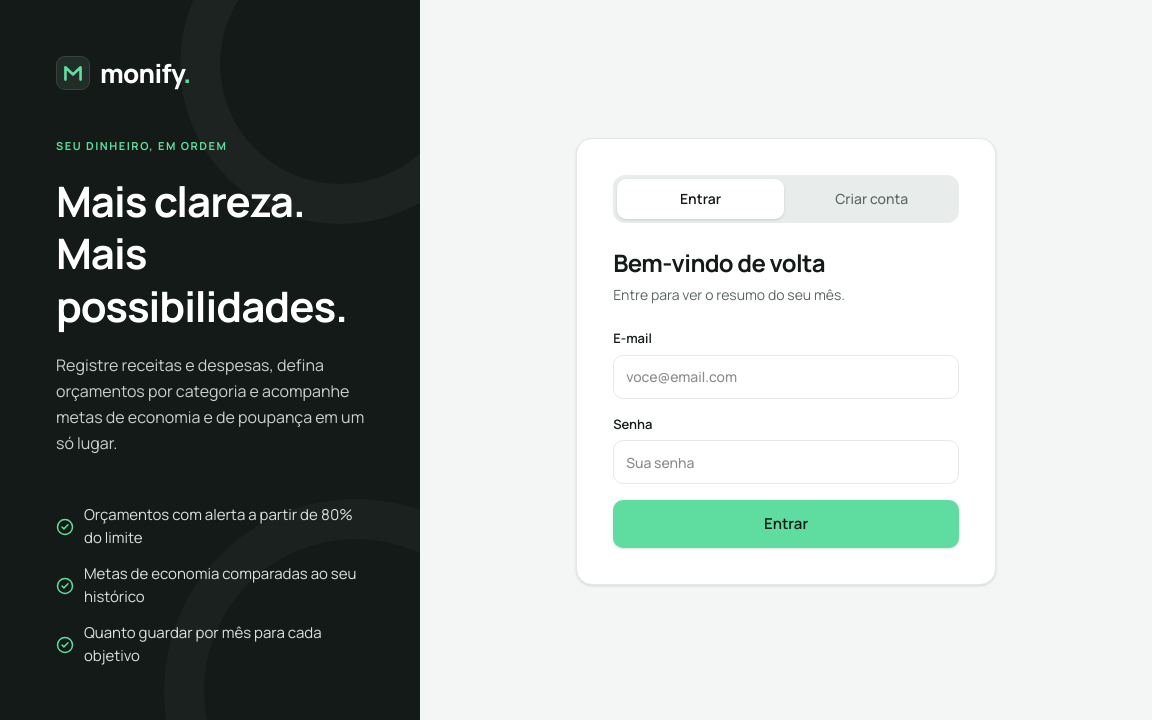
Test case: Entrar › deve validar os campos antes de enviar
Expected: the heading "Bem-vindo de volta" is shown, top-left (613, 246), bottom-right (825, 279)
Click the button "Entrar": (786, 524) top-left (613, 500), bottom-right (959, 548)
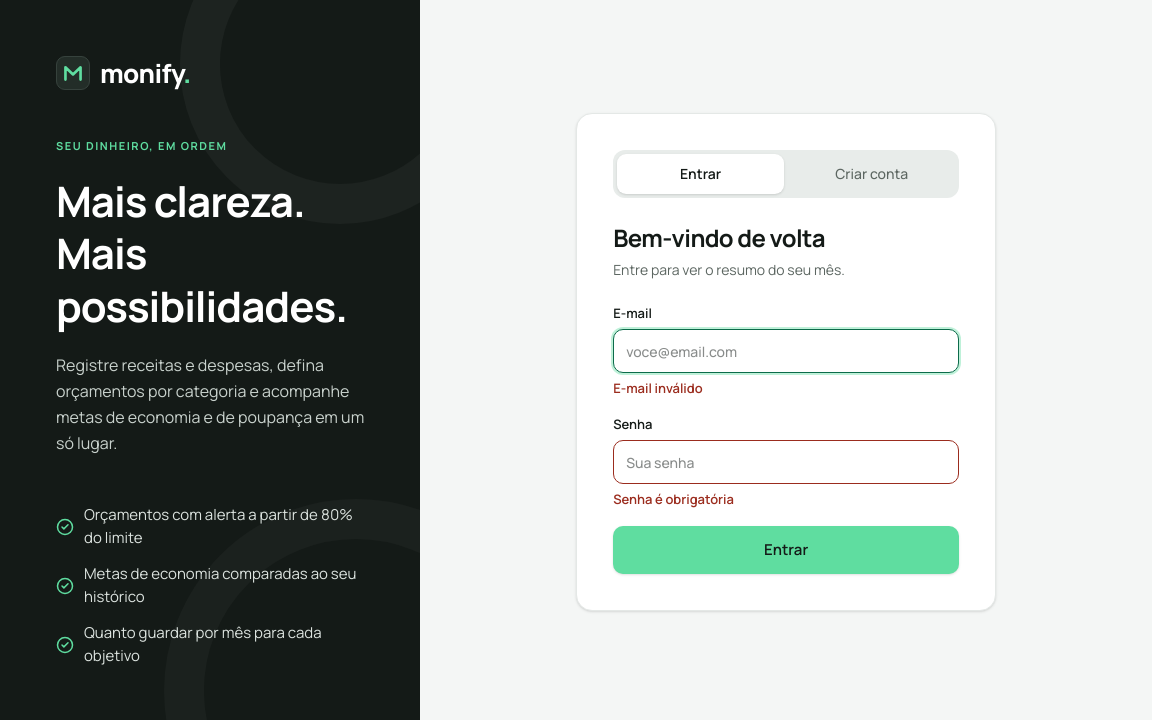
Now the text "E-mail inválido" is shown, box top-left (613, 379), bottom-right (703, 397)
Now the text "Senha é obrigatória" is shown, box top-left (613, 490), bottom-right (734, 508)
